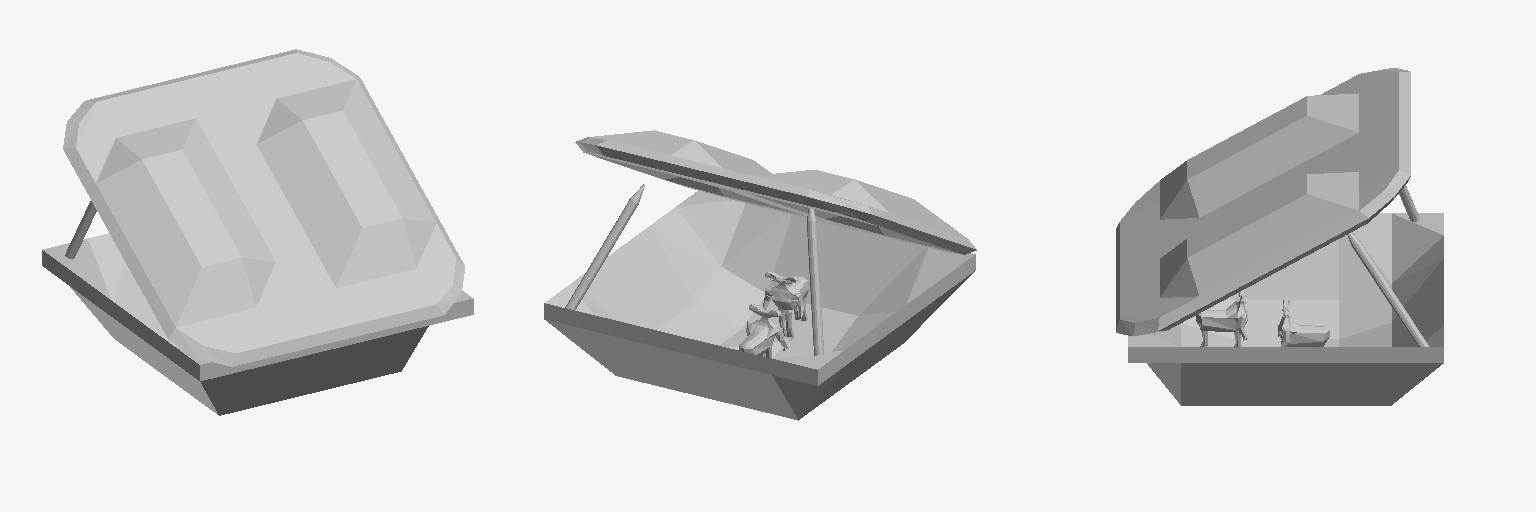
Rendered from HoundPit1d.obj.
3 views of the same model, side by side, from view 1: azimuth 30°, elevation 25°; view 2: azimuth 150°, elevation 25°; view 3: azimuth 270°, elevation 25° (orthographic).
Parts seen in each view (by area): view 1: Cube.001, Cube, Cube.002; view 2: Cube, Cube.001, Cube.005, Cube.002, Cube.004, Cube.003; view 3: Cube.001, Cube, Cube.005, Cube.003, Cube.004.
Boxes of the visible parts, x1,y1,x2,y2 form: Cube.001: [63, 49, 464, 366]; Cube: [42, 233, 473, 415]; Cube.002: [65, 201, 96, 258]; Cube: [544, 191, 975, 420]; Cube.001: [575, 130, 976, 254]; Cube.005: [763, 272, 808, 341]; Cube.002: [807, 208, 823, 355]; Cube.004: [739, 304, 787, 358]; Cube.003: [565, 184, 644, 309]; Cube.001: [1116, 68, 1410, 336]; Cube: [1128, 213, 1443, 405]; Cube.005: [1196, 289, 1247, 346]; Cube.003: [1347, 232, 1429, 346]; Cube.004: [1278, 298, 1329, 346].
Size of the model in its own units: 1.68 by 1.46 by 1.61.